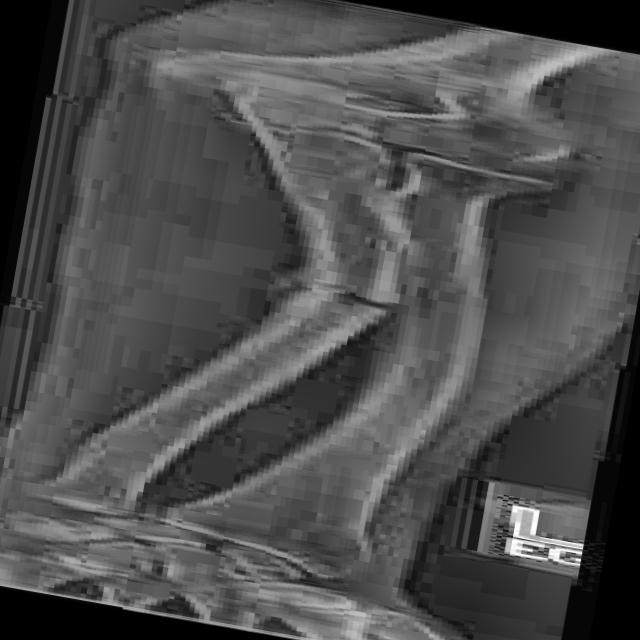forearm fracture: (175, 222, 480, 361)
